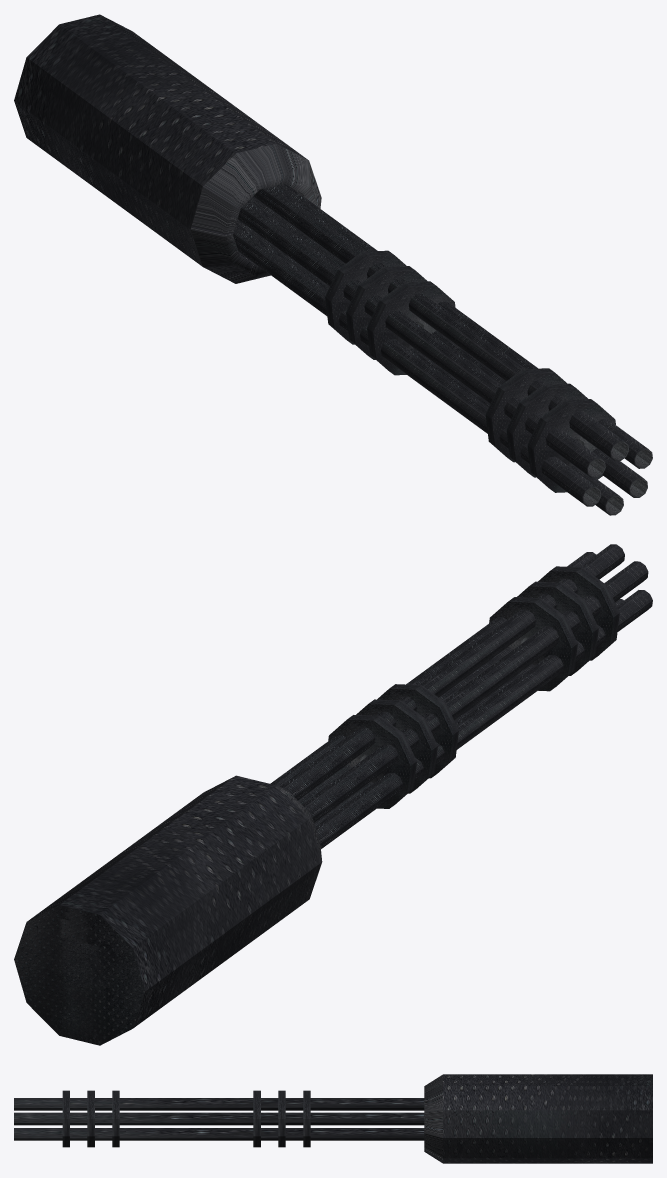
File: chainGunDefault.fbx
3 renders of one model, top to bottom at view 1: azimuth 30°, elevation 25°; view 2: azimuth 150°, elevation 25°; view 3: azimuth 270°, elevation 25°, orthographic. The views are drawn at different scales.
Parts seen in each view (by area): view 1: Barrel, Base; view 2: Base, Barrel; view 3: Base, Barrel.
Boxes of the visible parts, box(x1,y1,x2,y2) form: Barrel: box(233, 184, 652, 515); Base: box(14, 14, 321, 283); Base: box(14, 775, 322, 1045); Barrel: box(270, 544, 652, 848); Base: box(424, 1074, 652, 1163); Barrel: box(14, 1090, 424, 1147).
Size of the model in its own units: 3.44 by 3.27 by 24.39.
2 materials, 2 textured.
